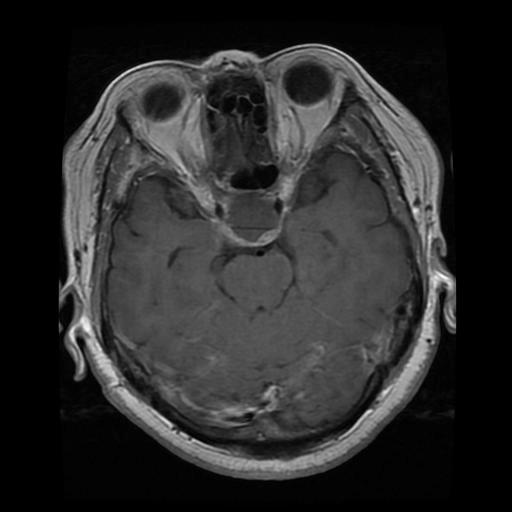Tumour-Pituitary: (199, 178, 313, 259)
